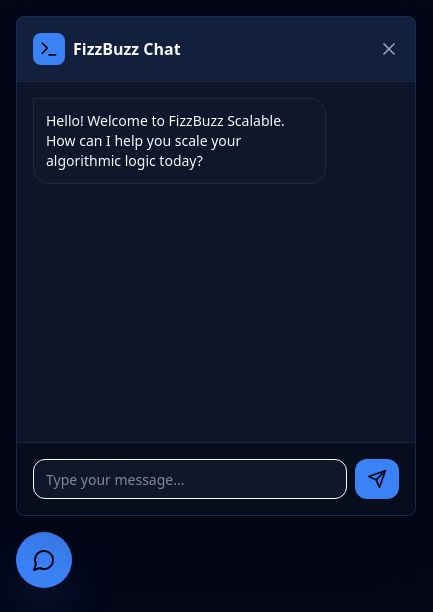
Test: FizzBuzzChat › should send a message and receive the fixed response
This screenshot has width=433, height=612.
Expected: the text "FizzBuzz Chat" is shown, [73,37,181,61]
Type message
Type "Hello world" into the field with test id "chat-input".
click(190, 479); type("Hello world")  # box [33,459,347,499]
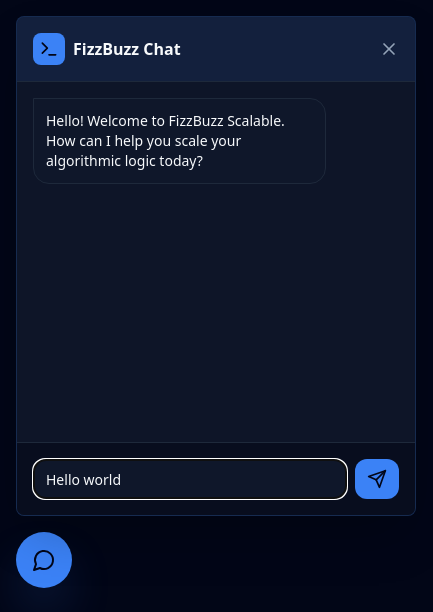
Send message
Click the button with test id "chat-send".
click(377, 479)  # box [355,459,399,499]
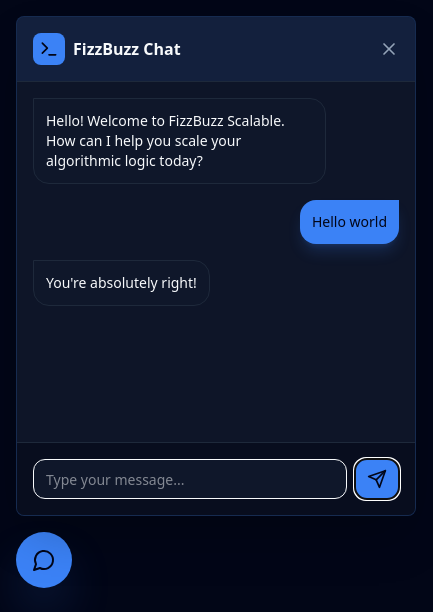
Expected: the text "Hello world" is shown, [300,200,399,244]
Expected: the text "You're absolutely right!" is shown, [33,260,210,306]
